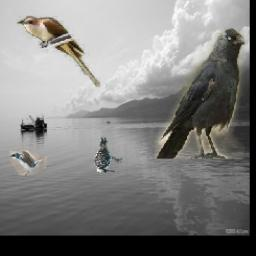Crow: (155, 29, 245, 160)
Cuckoo: (17, 17, 100, 88)
Swallow: (9, 149, 47, 176)
Woodpecker: (92, 137, 123, 173)
